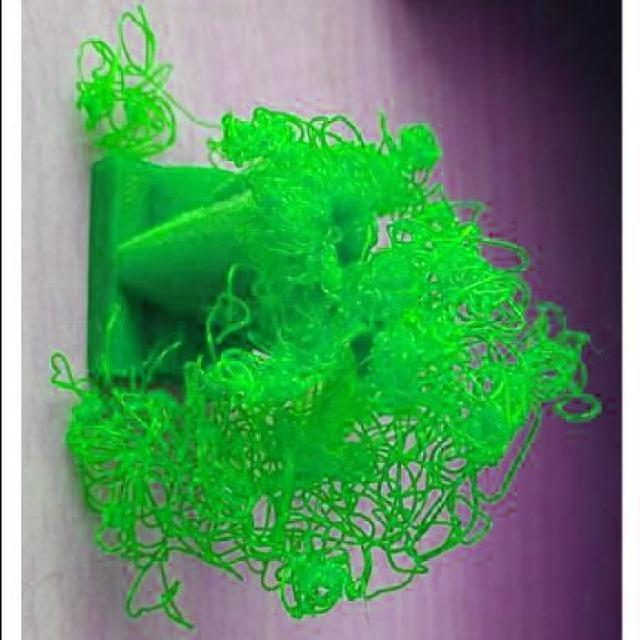spaghetti: (45, 106, 607, 640), (61, 0, 182, 114)
